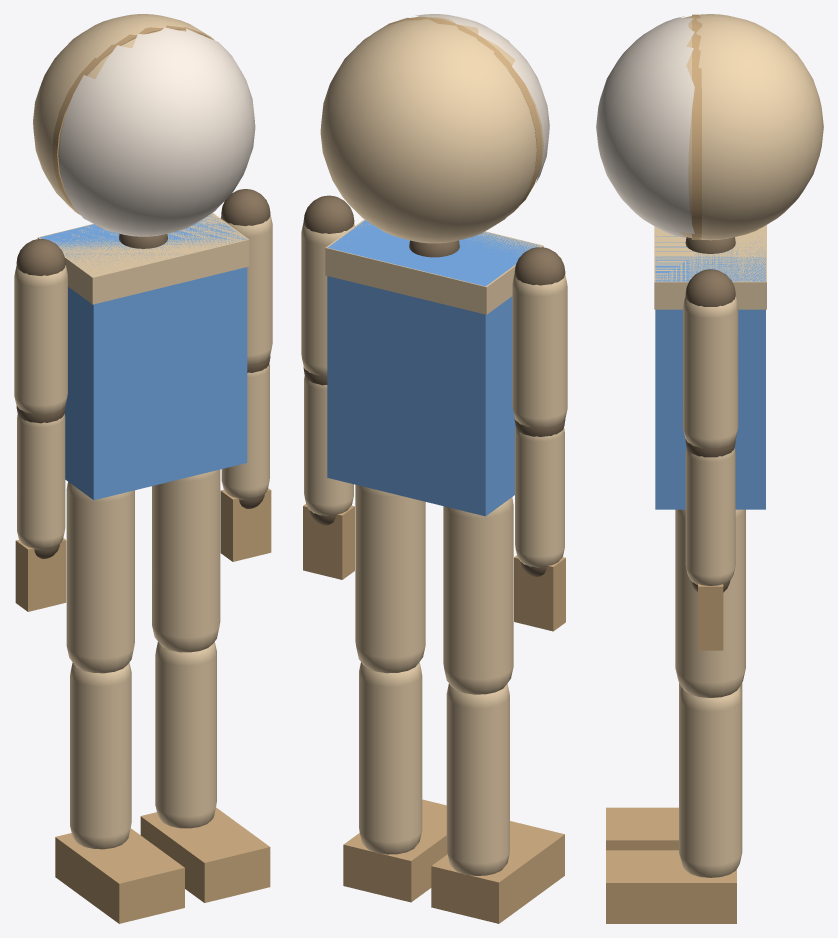
The model's file is doll.glb.
3 renders of one model, left to right at view 1: azimuth 30°, elevation 25°; view 2: azimuth 150°, elevation 25°; view 3: azimuth 270°, elevation 25°, orthographic. The views are drawn at different scales.
Parts seen in each view (by area): view 1: Torso, FacePlate, UpperLeg_R, UpperLeg_L, LowerLeg_L, LowerLeg_R, UpperArm_R, Foot_R, Foot_L, LowerArm_R, Head, UpperArm_L (+3 smaller); view 2: Torso, Head, UpperLeg_R, UpperLeg_L, LowerLeg_R, LowerLeg_L, UpperArm_R, Foot_R, LowerArm_R, Foot_L, UpperArm_L, LowerArm_L (+3 smaller); view 3: Head, Torso, FacePlate, LowerLeg_L, UpperArm_L, Foot_L, UpperLeg_L, LowerArm_L, Foot_R, Hand_L.
Boxes of the visible parts, box(x1,y1,x2,y2) form: Torso: box(37, 213, 249, 500); FacePlate: box(52, 25, 255, 236); UpperLeg_R: box(66, 481, 134, 673); UpperLeg_L: box(152, 469, 220, 652); LowerLeg_L: box(155, 642, 216, 828); LowerLeg_R: box(70, 662, 131, 849); UpperArm_R: box(14, 239, 67, 414); Foot_R: box(55, 828, 184, 923); Foot_L: box(140, 807, 270, 902); LowerArm_R: box(16, 405, 65, 549); Head: box(33, 14, 213, 214); UpperArm_L: box(220, 189, 272, 364); Torso: box(325, 219, 543, 516); Head: box(320, 16, 543, 243); UpperLeg_R: box(443, 497, 513, 694); UpperLeg_L: box(355, 484, 425, 673); LowerLeg_R: box(446, 683, 509, 875); LowerLeg_L: box(359, 662, 422, 854); UpperArm_R: box(512, 247, 567, 428); Foot_R: box(431, 821, 564, 923); LowerArm_R: box(514, 418, 565, 567); Foot_L: box(343, 799, 447, 902); UpperArm_L: box(301, 195, 354, 376); LowerArm_L: box(303, 367, 353, 516); Head: box(680, 14, 823, 240); Torso: box(654, 225, 766, 509); FacePlate: box(596, 14, 701, 239); LowerLeg_L: box(679, 687, 742, 877); UpperArm_L: box(683, 269, 738, 448); Foot_L: box(606, 850, 736, 923); UpperLeg_L: box(675, 509, 745, 697); LowerArm_L: box(685, 439, 735, 585); Foot_R: box(606, 807, 678, 850); Hand_L: box(691, 580, 730, 650).
Size of the model in its own units: 0.59 by 1.89 by 0.4527.
